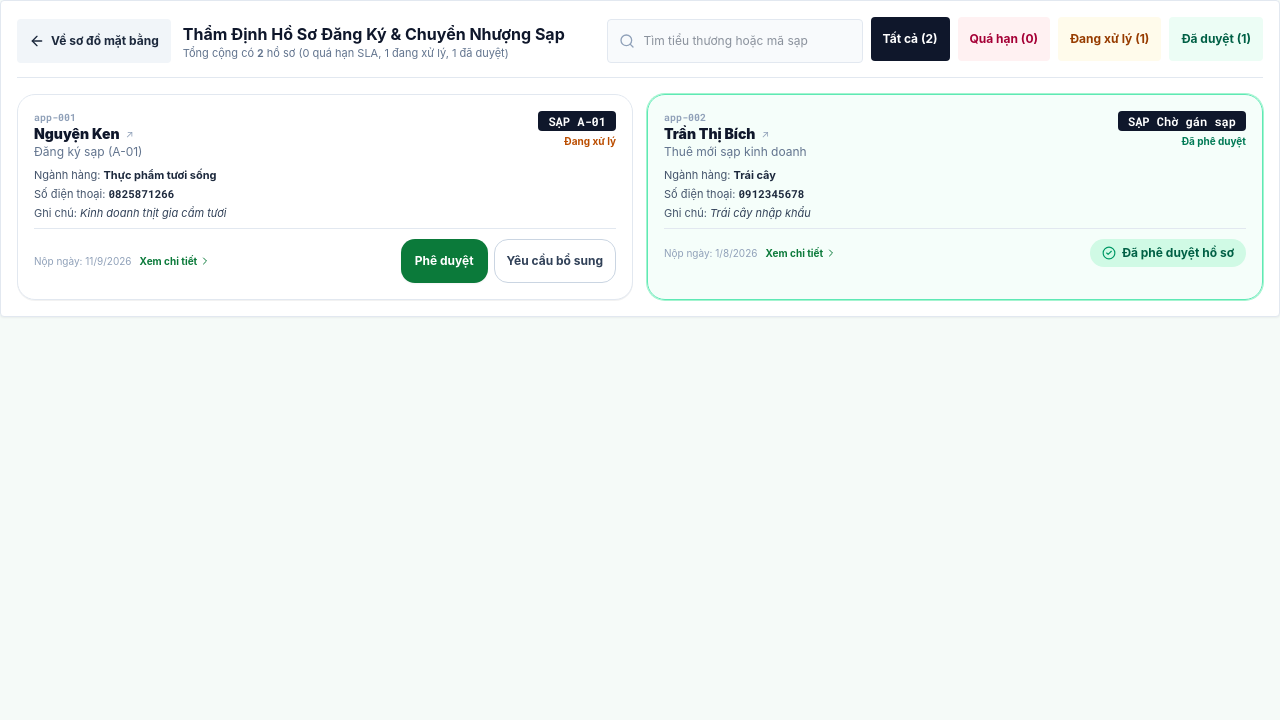
PendingProfilesView with Live Applications › opens application dossier modal with Zalo avatar and documents
This screenshot has width=1280, height=720.
Click the text "Nguyện Ken": (77, 134) [34,124,120,144]
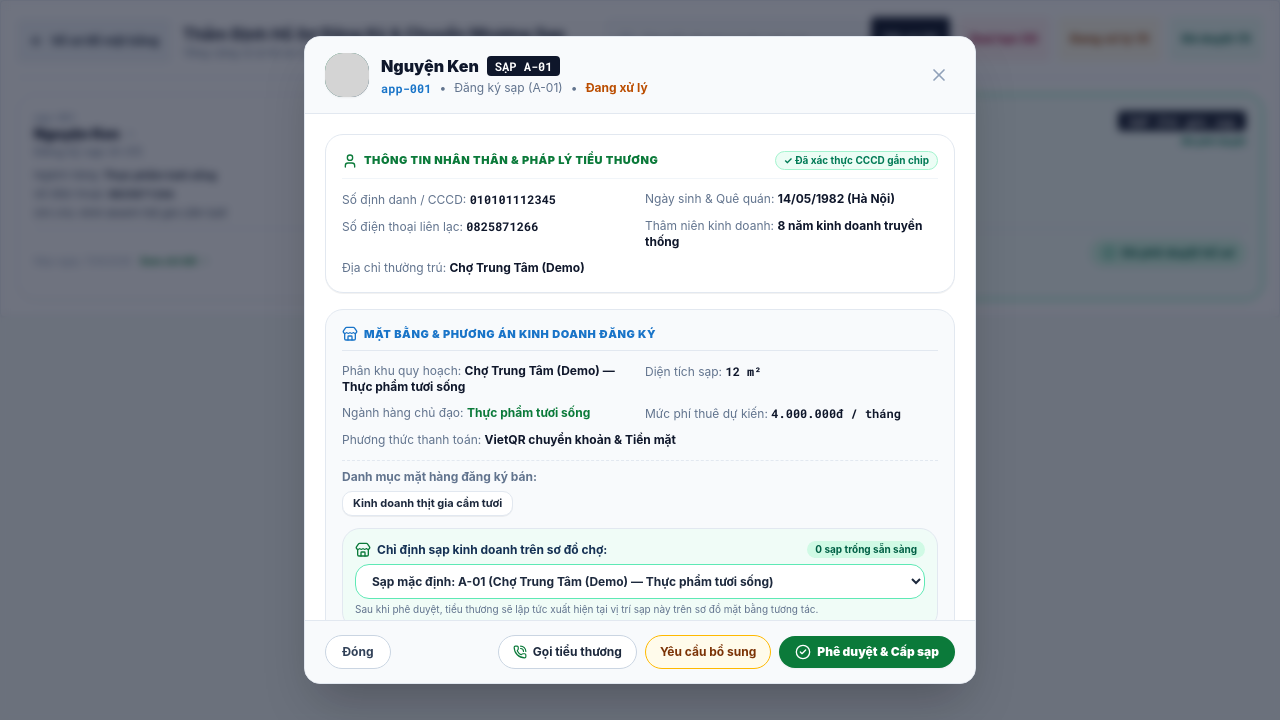
Check: the dialog is shown
Check: the text "010101112345" is shown, box [470,191,556,207]
